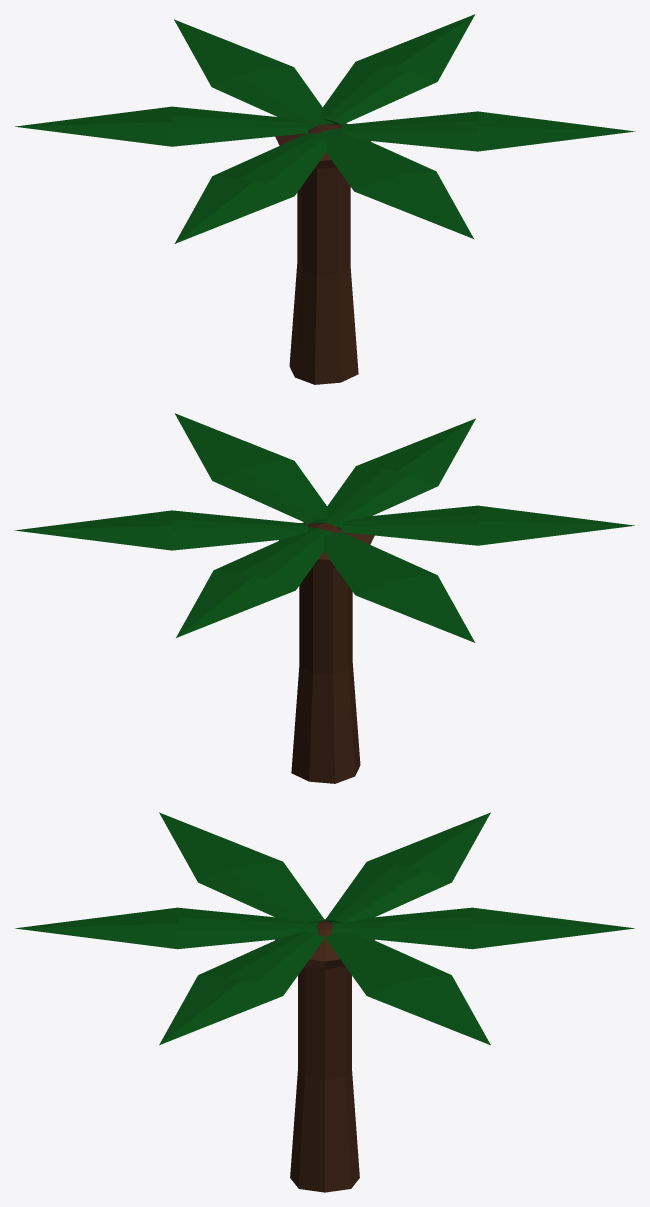
File: Palm Tree.glb
3 views of the same model, one above another, from view 1: azimuth 30°, elevation 25°; view 2: azimuth 150°, elevation 25°; view 3: azimuth 270°, elevation 25° (orthographic). The views are drawn at different scales.
Visible parts, largest first — view 1: Leaves.001, Leaves.002, Leaves, Trunk; view 2: Leaves.001, Leaves.002, Leaves, Trunk; view 3: Leaves.002, Leaves.001, Leaves, Trunk.
Part boxes in pixels (x1,y1,x2,y2): Leaves.001: [15, 106, 325, 243]; Leaves.002: [322, 14, 635, 151]; Leaves: [174, 19, 473, 238]; Trunk: [275, 123, 371, 384]; Leaves.001: [324, 505, 634, 642]; Leaves.002: [14, 413, 327, 550]; Leaves: [176, 418, 475, 637]; Trunk: [278, 522, 374, 783]; Leaves.002: [159, 931, 490, 1045]; Leaves.001: [159, 812, 490, 923]; Leaves: [15, 907, 634, 949]; Trunk: [275, 919, 374, 1192].
Bounding box in the file's own units: 10.23 × 5.2 × 11.53.
